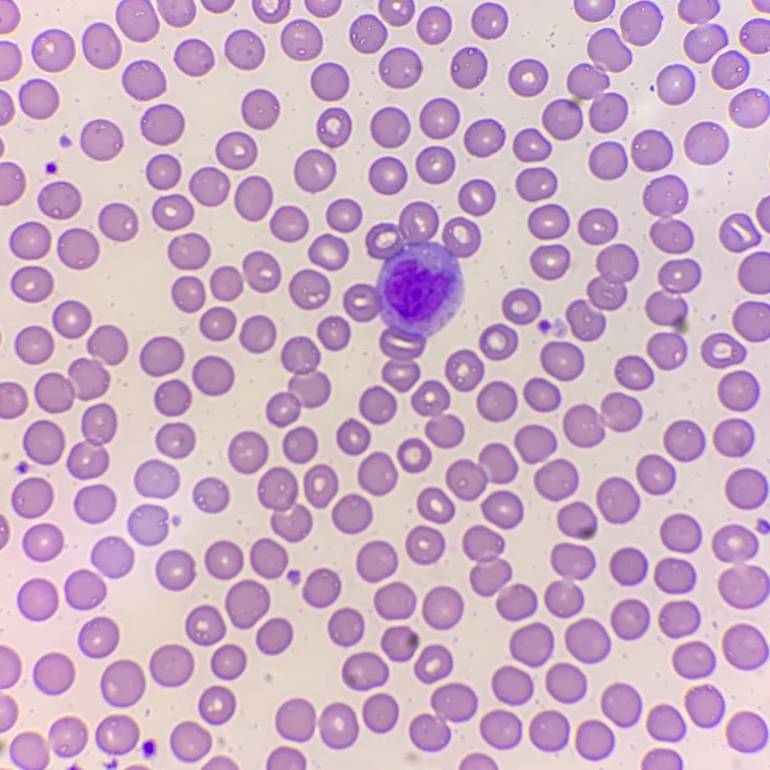RBC: (343, 202, 480, 391), (542, 29, 630, 139), (34, 325, 127, 413), (463, 525, 536, 620), (566, 244, 637, 341), (646, 259, 699, 369), (266, 337, 330, 426), (712, 525, 769, 608), (409, 683, 477, 751), (563, 392, 640, 447), (257, 467, 312, 541), (446, 443, 516, 500), (643, 176, 692, 253), (544, 543, 594, 617), (67, 403, 116, 478), (411, 380, 464, 448), (210, 251, 280, 300), (225, 580, 269, 629), (100, 660, 145, 706), (722, 624, 767, 669), (565, 619, 609, 663), (597, 477, 639, 523), (510, 623, 553, 666), (22, 420, 64, 464), (534, 459, 577, 500), (150, 645, 193, 686), (140, 105, 184, 145), (139, 336, 183, 376), (82, 23, 121, 68), (342, 652, 388, 690), (116, 0, 158, 41), (32, 30, 74, 71), (684, 122, 725, 164), (11, 477, 53, 518), (379, 48, 422, 88), (540, 341, 583, 381), (601, 683, 641, 726), (122, 61, 166, 100), (319, 703, 358, 747), (294, 150, 335, 191), (57, 228, 98, 269), (663, 420, 704, 461), (725, 468, 766, 509), (92, 536, 133, 577), (356, 541, 397, 582), (33, 653, 74, 694), (81, 120, 123, 160), (228, 431, 268, 473), (423, 586, 462, 629), (234, 176, 272, 220), (620, 4, 660, 45), (281, 20, 322, 60), (631, 130, 671, 171), (289, 269, 330, 309), (17, 579, 57, 620), (185, 605, 225, 646), (275, 699, 315, 740), (726, 711, 766, 752), (192, 356, 234, 395), (38, 181, 81, 219), (358, 452, 396, 495), (95, 715, 138, 753), (78, 617, 118, 657), (65, 570, 106, 609), (480, 710, 521, 749), (170, 722, 211, 761), (685, 685, 723, 727), (135, 460, 179, 496), (189, 167, 229, 206), (719, 213, 759, 252), (718, 371, 758, 410), (477, 381, 516, 421), (713, 418, 753, 457), (332, 494, 372, 533), (529, 710, 568, 750), (420, 98, 458, 139), (445, 350, 483, 391), (515, 425, 556, 463), (74, 485, 115, 523), (481, 490, 522, 528), (660, 514, 701, 552), (492, 666, 533, 704), (673, 641, 715, 678), (225, 30, 264, 69), (371, 108, 410, 147), (129, 505, 168, 544), (546, 663, 585, 702), (636, 454, 674, 494), (23, 523, 63, 561), (156, 550, 194, 590), (9, 222, 50, 259), (374, 582, 415, 619), (701, 333, 744, 368), (19, 80, 58, 118), (98, 203, 137, 241), (14, 326, 53, 364), (302, 568, 340, 607), (611, 599, 649, 638), (49, 717, 87, 756), (464, 120, 504, 157), (216, 132, 256, 169), (732, 301, 769, 341), (250, 538, 287, 578), (659, 601, 699, 638), (152, 194, 193, 230), (168, 233, 209, 269), (11, 266, 52, 302), (304, 464, 338, 507), (729, 89, 767, 127), (52, 300, 90, 338), (406, 526, 444, 564), (205, 541, 243, 579), (242, 90, 279, 129), (557, 502, 596, 539), (576, 720, 613, 759), (450, 48, 486, 88), (508, 59, 546, 96), (359, 386, 396, 424), (414, 645, 452, 682), (10, 732, 48, 769), (415, 147, 454, 183), (309, 234, 348, 270), (528, 204, 568, 239), (654, 558, 694, 593), (349, 16, 386, 53), (311, 63, 348, 100), (589, 142, 626, 179), (369, 157, 406, 194), (198, 686, 235, 723), (175, 40, 213, 76), (657, 66, 693, 104), (239, 315, 275, 353), (479, 324, 517, 360), (328, 608, 364, 646), (684, 27, 723, 62), (516, 167, 556, 201), (530, 245, 570, 279), (154, 380, 191, 416), (417, 487, 454, 523), (610, 548, 646, 585), (712, 51, 747, 89), (270, 206, 308, 241), (578, 209, 616, 244), (502, 289, 540, 324), (156, 423, 194, 458), (381, 626, 419, 661), (363, 693, 398, 731), (738, 252, 769, 294), (256, 618, 292, 654), (647, 705, 684, 740), (317, 108, 350, 147), (458, 180, 494, 215), (282, 427, 317, 463), (417, 7, 451, 44), (471, 3, 506, 38), (211, 644, 246, 679), (171, 276, 205, 312), (199, 307, 235, 341), (336, 419, 370, 455), (193, 478, 229, 512), (513, 128, 550, 161), (615, 356, 652, 389), (146, 154, 180, 189), (397, 438, 431, 472), (326, 199, 361, 232), (524, 378, 559, 411), (317, 316, 350, 350), (0, 162, 25, 205), (157, 0, 195, 26), (0, 382, 27, 418), (378, 0, 414, 26), (740, 22, 769, 53), (266, 747, 306, 769), (678, 0, 715, 23), (574, 0, 614, 21), (0, 646, 20, 688), (641, 748, 681, 769), (0, 44, 21, 80), (262, 0, 290, 23), (0, 0, 19, 33), (305, 0, 341, 17), (459, 753, 497, 769), (0, 696, 17, 731), (0, 91, 13, 124), (756, 197, 769, 230), (204, 756, 236, 769), (202, 0, 232, 12), (0, 516, 9, 546), (756, 519, 768, 532), (288, 570, 300, 582), (144, 740, 155, 751), (753, 0, 765, 9), (17, 463, 27, 473), (47, 163, 56, 173), (554, 322, 563, 332), (252, 0, 260, 8), (0, 742, 4, 750)
